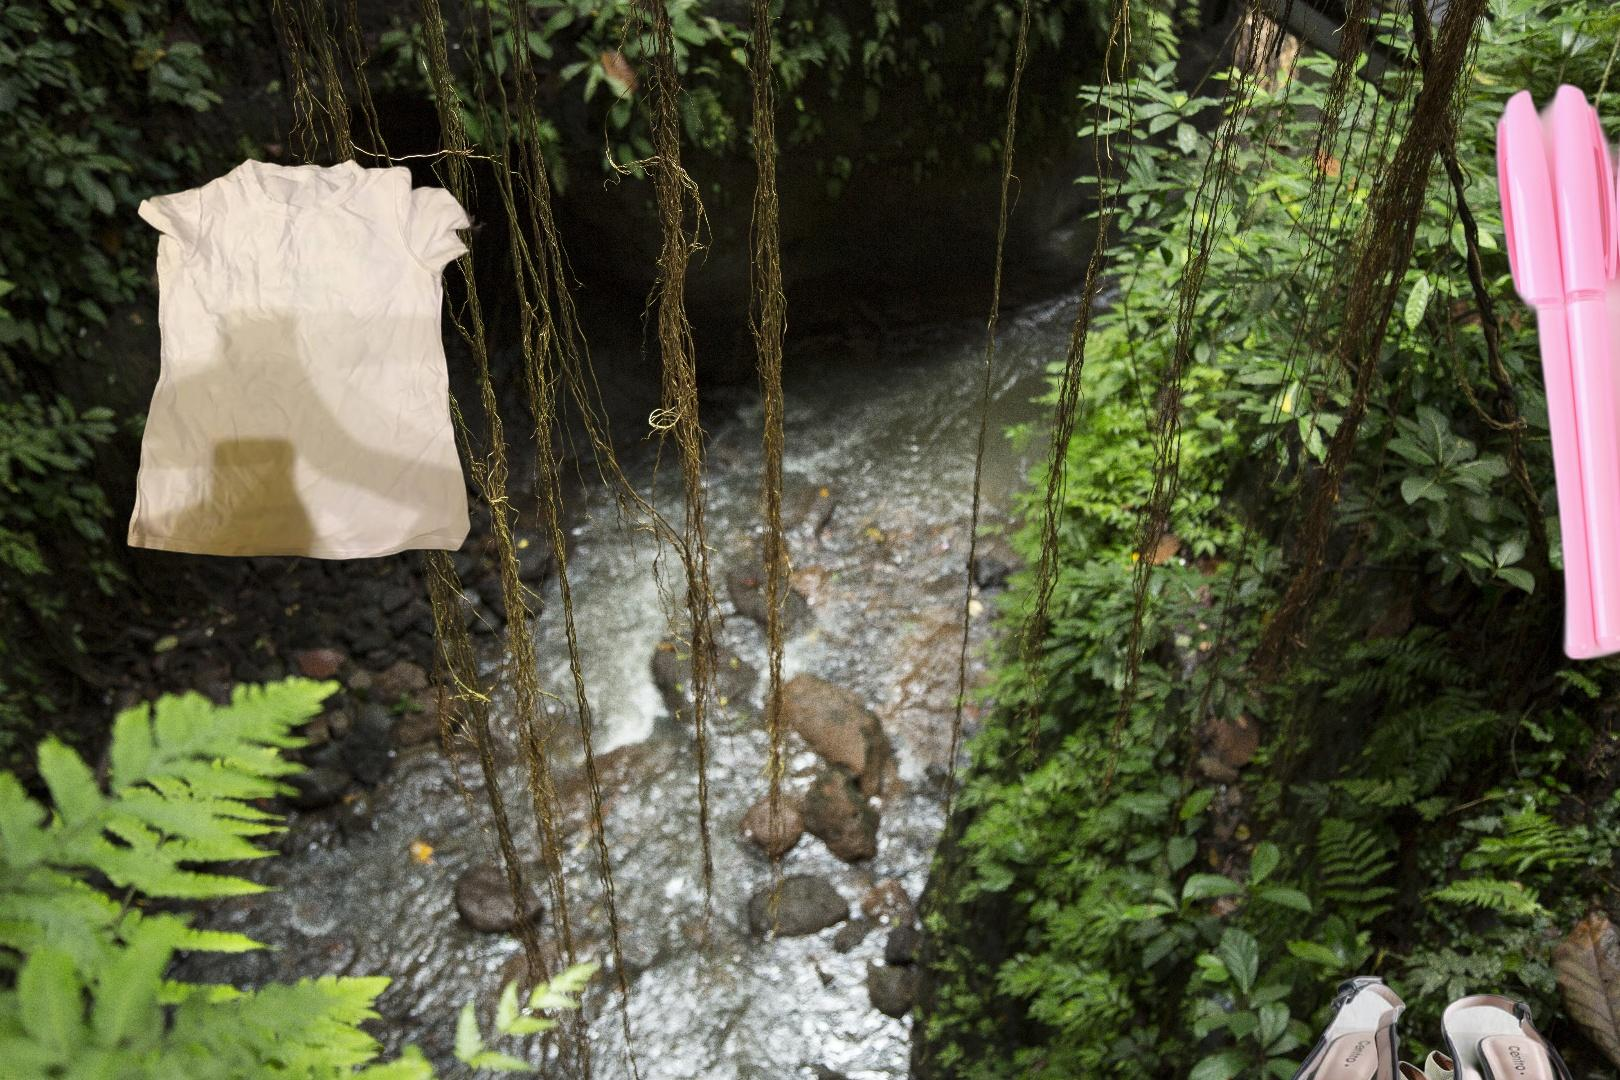clothes: (123, 153, 498, 565)
penholder: (1489, 69, 1620, 667)
shoes: (1213, 970, 1612, 1080), (1389, 1047, 1519, 1080)
